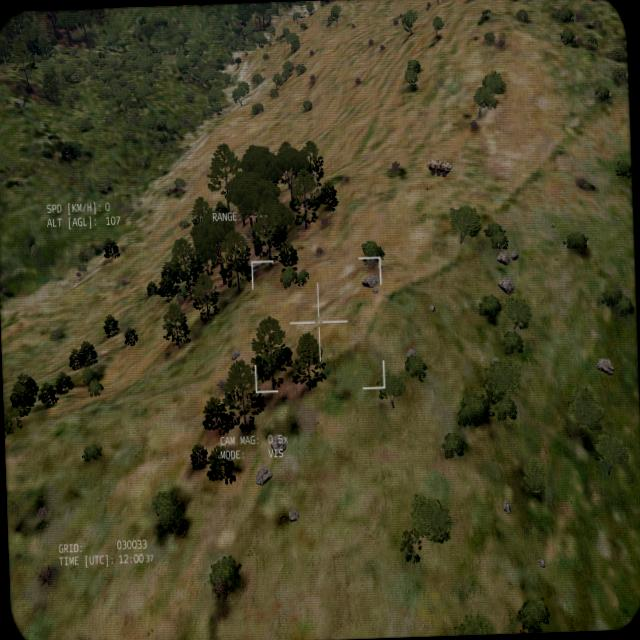apc: (426, 156, 452, 177)
